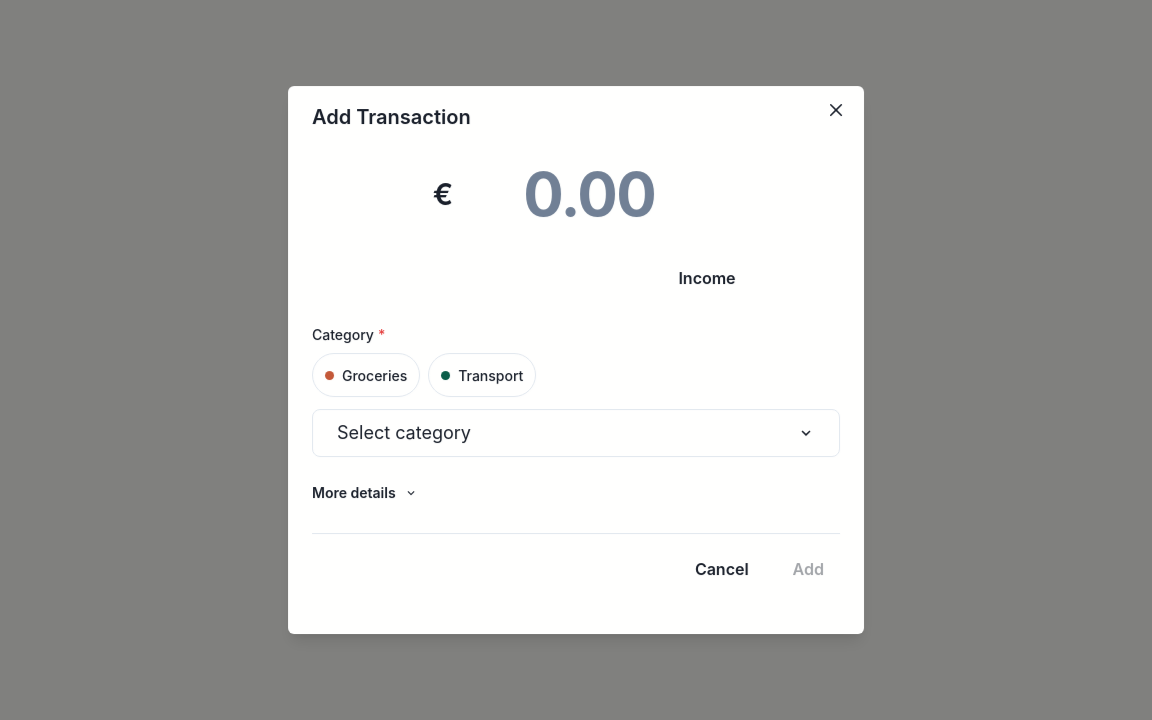
Test case: TransactionEntryModal composer (Story 16.2) › hides secondary fields behind "More details" and toggles the disclosure
The image size is (1152, 720).
Click the button "More details".
click(365, 493)  # box [312,477,418,509]
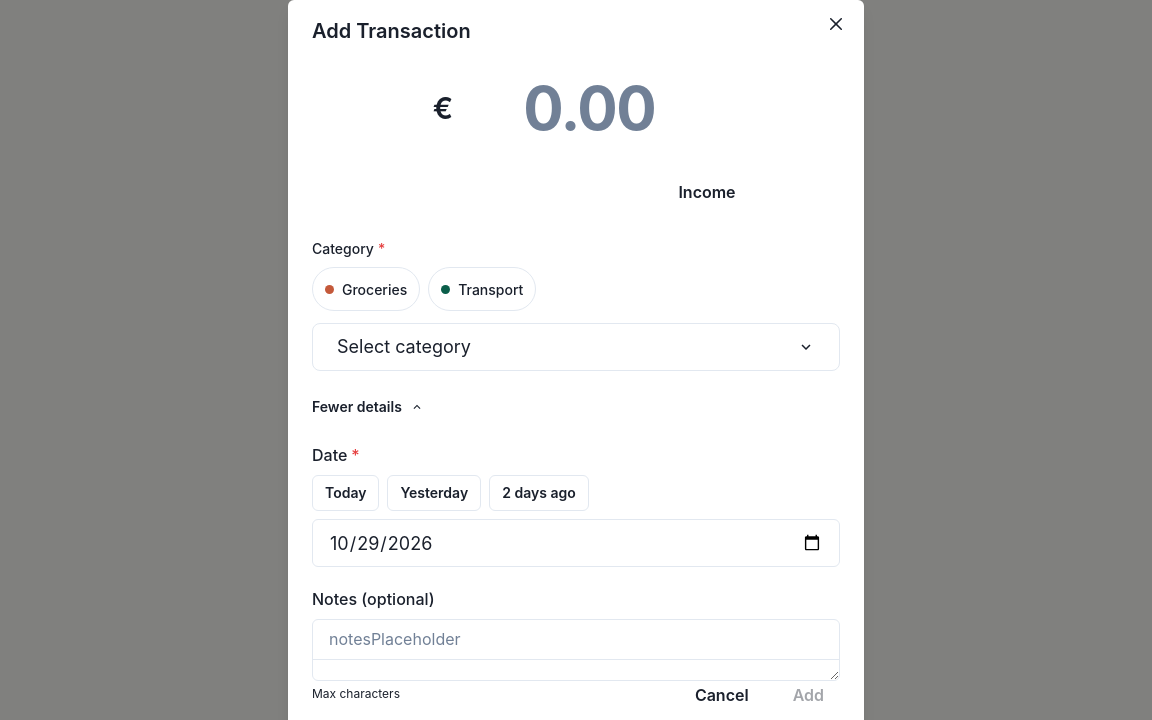
Expected: the button "Fewer details" is expanded, [312,391,424,423]
